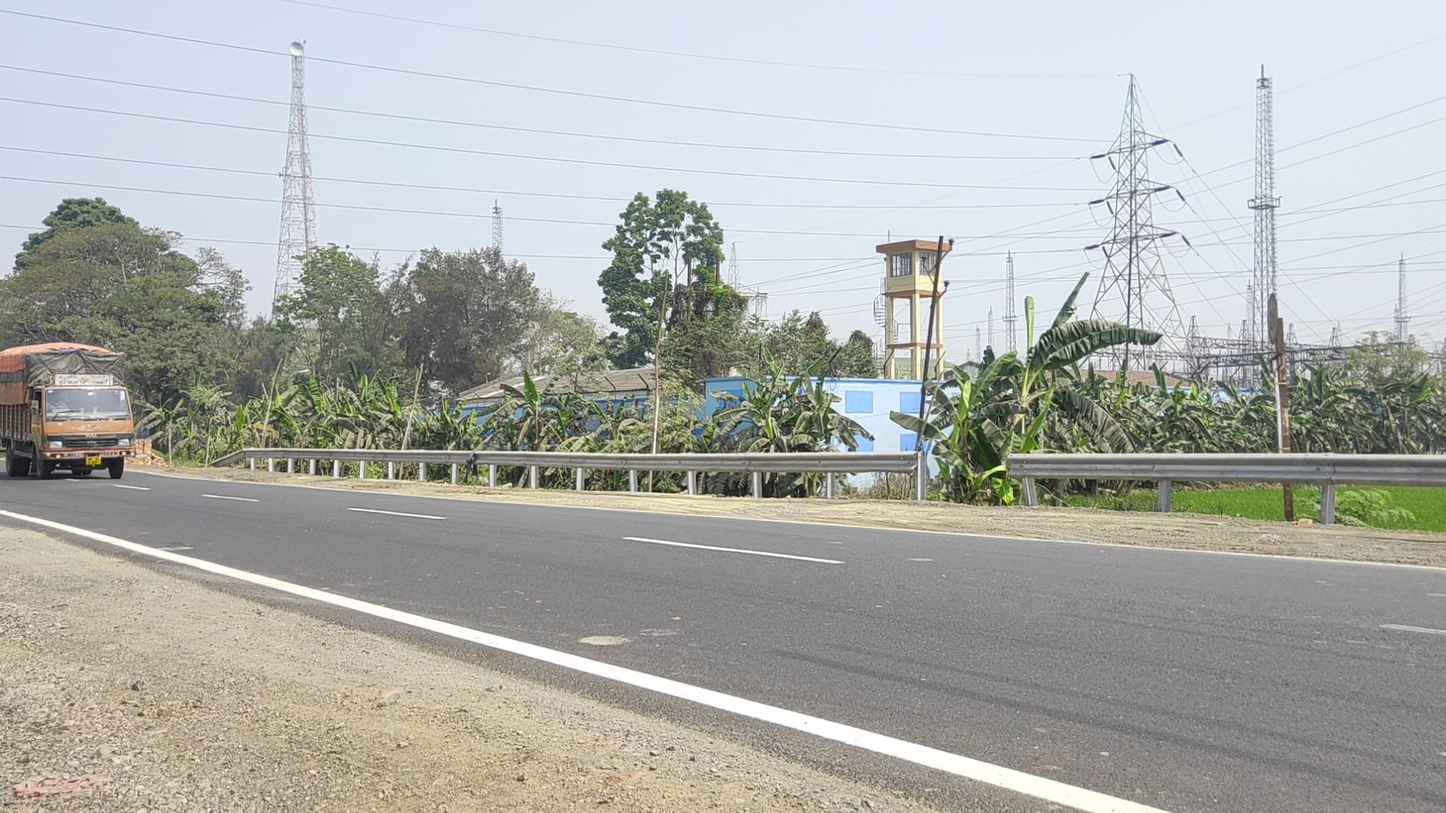truck: (1, 342, 136, 480)
